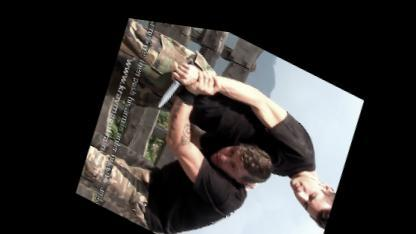knife: (147, 42, 201, 118)
